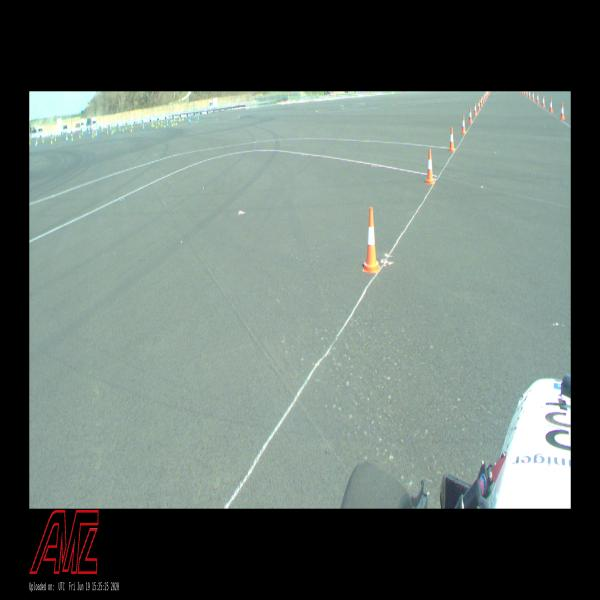orange_cone: (362, 208, 380, 273), (426, 149, 434, 184), (449, 128, 455, 151), (461, 116, 466, 134), (560, 103, 565, 119), (468, 108, 472, 124), (549, 99, 553, 112), (474, 103, 477, 115), (542, 96, 545, 107), (478, 100, 480, 110), (480, 96, 482, 106), (482, 94, 484, 104), (537, 94, 539, 104), (532, 91, 534, 101), (528, 92, 530, 98), (484, 93, 485, 101)
